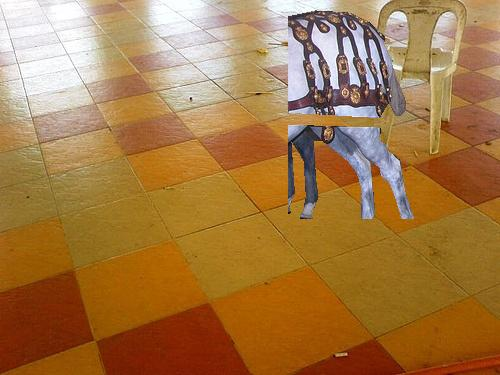tampered: (289, 11, 414, 219)
